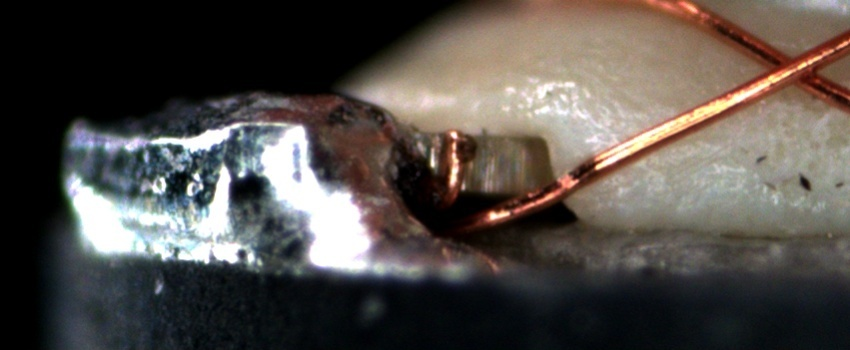CL: (744, 34, 843, 102)
TE: (427, 121, 469, 212)
